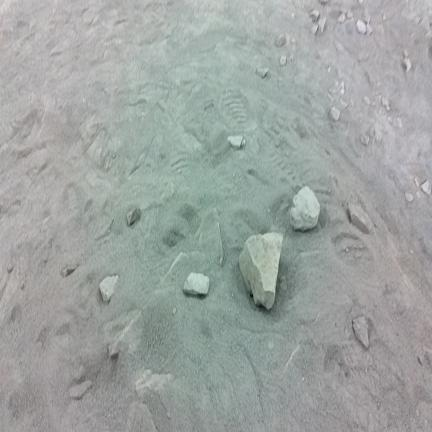Rock: (240, 233, 282, 309), (195, 208, 222, 265), (290, 186, 320, 231), (136, 370, 172, 395), (348, 204, 372, 234), (352, 315, 369, 348), (184, 273, 209, 295), (100, 276, 118, 301), (70, 381, 92, 400), (126, 208, 141, 227), (61, 264, 78, 277), (228, 136, 245, 149), (109, 341, 119, 358), (421, 180, 431, 195), (330, 107, 340, 121), (356, 20, 366, 34), (276, 34, 286, 47), (256, 68, 268, 78), (403, 57, 411, 71), (310, 10, 319, 22), (310, 24, 319, 36), (361, 133, 369, 146), (382, 98, 390, 111), (319, 17, 325, 32), (338, 13, 346, 23), (366, 23, 372, 35), (405, 192, 413, 201), (340, 99, 348, 108), (364, 96, 370, 105), (280, 56, 286, 65), (347, 10, 353, 19), (340, 81, 344, 94), (414, 177, 419, 187), (8, 264, 13, 273), (320, 0, 328, 5), (416, 191, 421, 198), (351, 99, 354, 106), (358, 0, 363, 4), (328, 66, 330, 72)
